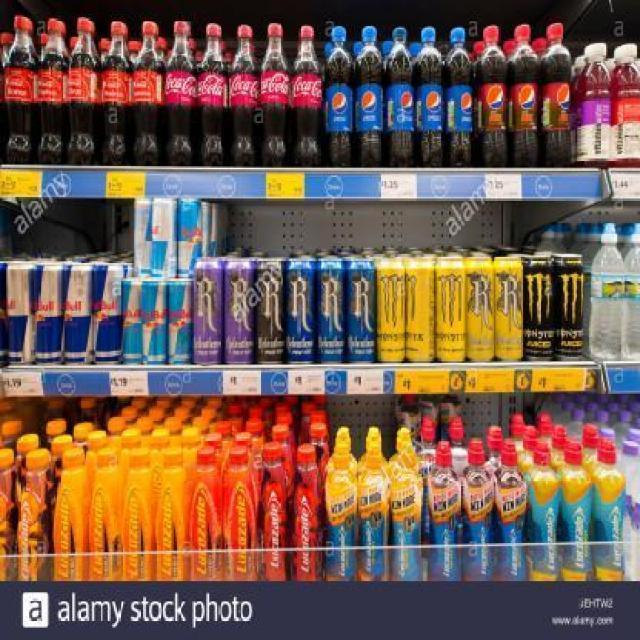Drinks: (164, 20, 200, 166), (258, 22, 292, 166), (475, 26, 508, 169), (540, 23, 572, 169), (508, 24, 540, 168), (292, 24, 324, 168), (199, 22, 230, 166), (229, 24, 260, 167), (354, 26, 385, 168), (324, 25, 355, 166), (385, 28, 416, 168), (415, 26, 444, 168), (445, 26, 474, 168)
